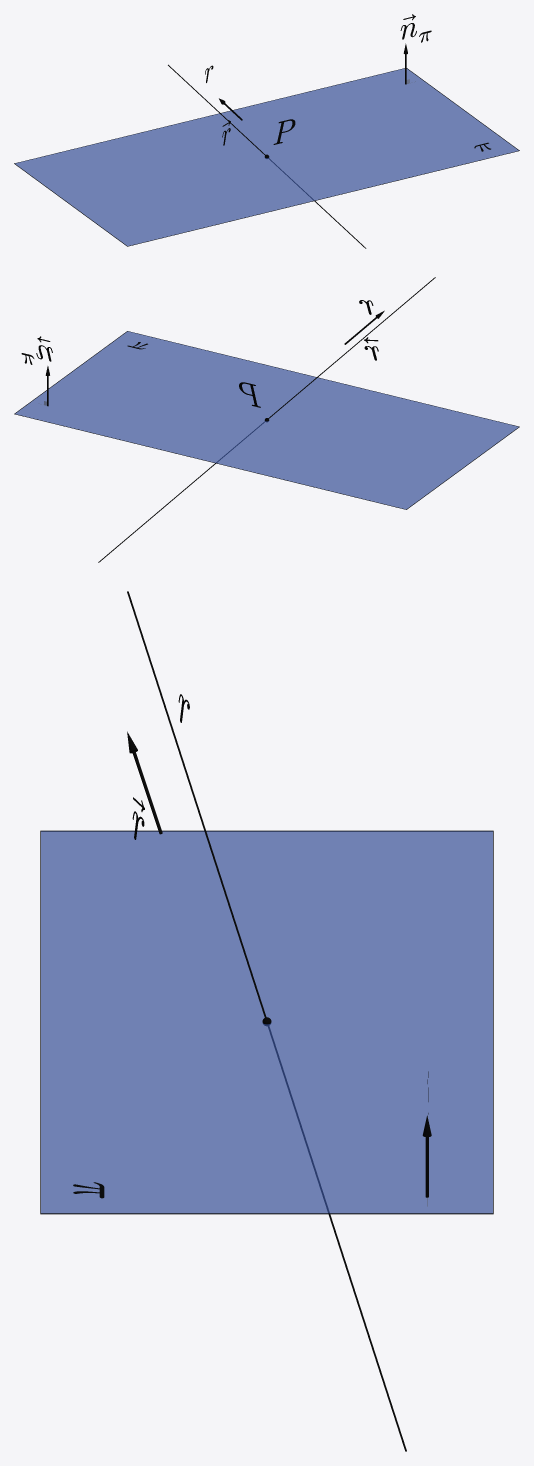
File: r_secante_pi.glb
3 renders of one model, top to bottom at view 1: azimuth 30°, elevation 25°; view 2: azimuth 150°, elevation 25°; view 3: azimuth 270°, elevation 25°, orthographic. The views are drawn at different scales.
Parts seen in each view (by area): view 1: Plano, segmento; view 2: Plano, segmento; view 3: Plano, segmento.
Boxes of the visible parts, x1,y1,x2,y2 form: Plano: (14,68,519,246); segmento: (168,64,366,248); Plano: (14,331,519,509); segmento: (98,277,435,562); Plano: (40,830,493,1214); segmento: (127,591,406,1451).
Bounding box in the file's own units: 4.09 × 2.92 × 2.
